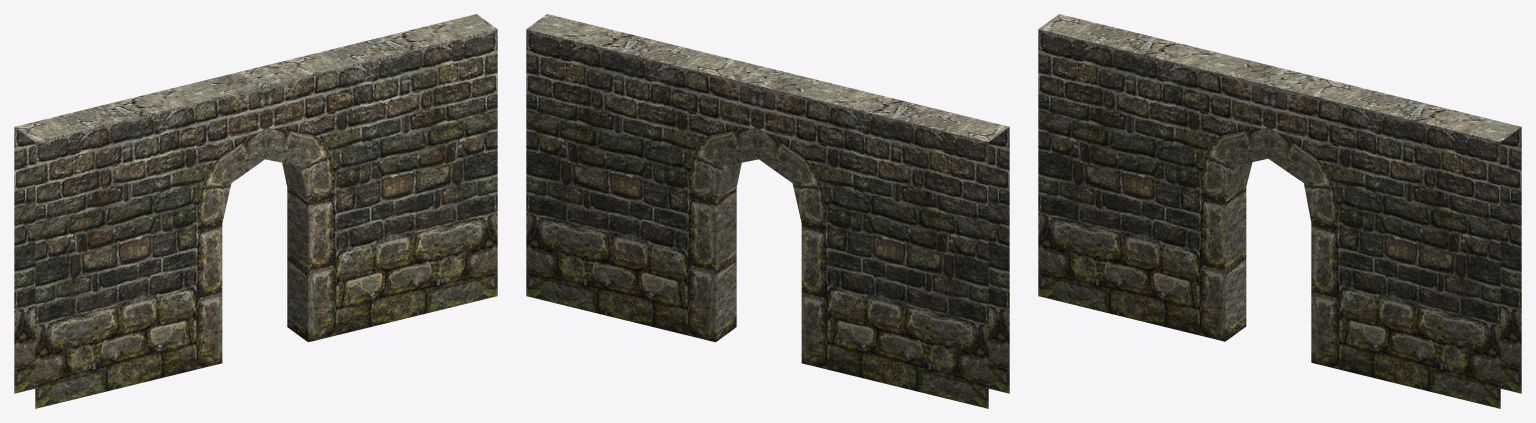
The picture shows the model from 3 angles, left to right: view 1: azimuth 30°, elevation 25°; view 2: azimuth 150°, elevation 25°; view 3: azimuth 330°, elevation 25°; orthographic projection.
Parts seen in each view (by area): view 1: tn5_wl6; view 2: tn5_wl6; view 3: tn5_wl6.
Part boxes in pixels (x1,y1,x2,y2): tn5_wl6: (14, 14, 497, 408); tn5_wl6: (526, 14, 1009, 408); tn5_wl6: (1038, 14, 1521, 408).
Size of the model in its own units: 6.84 by 3.77 by 0.534.
Materials: 2 (2 with a texture image).
